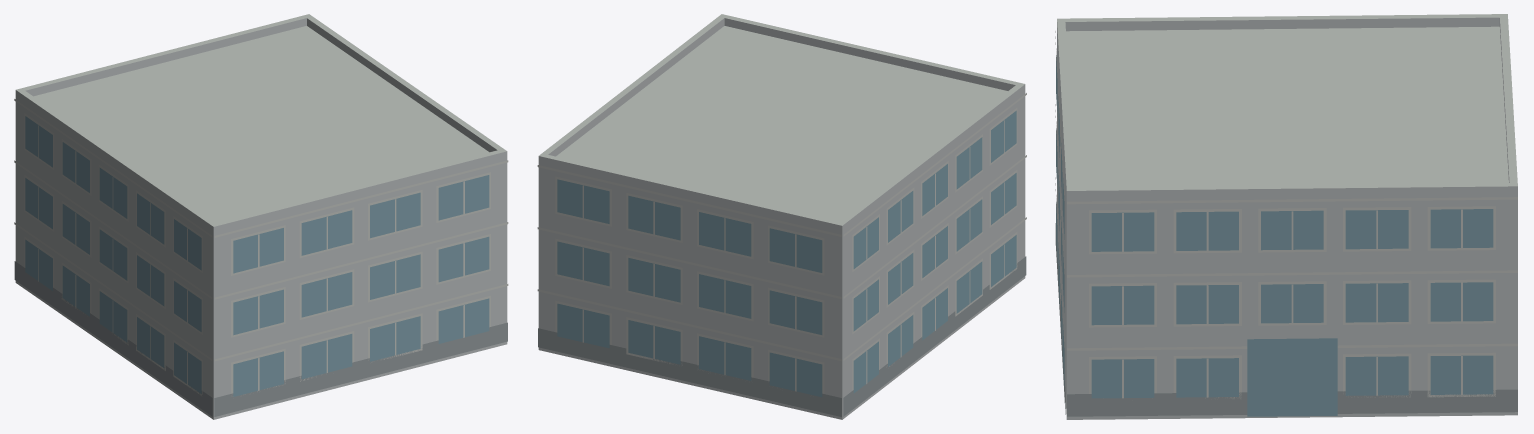
The model's file is public-e58639c7-b9db-4024-9742-66ee8e0c9c83.glb.
The picture shows the model from 3 angles, left to right: view 1: azimuth 30°, elevation 25°; view 2: azimuth 150°, elevation 25°; view 3: azimuth 270°, elevation 25°; orthographic projection. The views are drawn at different scales.
Visible parts, largest first — view 1: public-e58639c7-b9db-4024-9742-66ee8e0c9c83; view 2: public-e58639c7-b9db-4024-9742-66ee8e0c9c83; view 3: public-e58639c7-b9db-4024-9742-66ee8e0c9c83.
Boxes of the visible parts, x1,y1,x2,y2 form: public-e58639c7-b9db-4024-9742-66ee8e0c9c83: [14, 14, 508, 419]; public-e58639c7-b9db-4024-9742-66ee8e0c9c83: [537, 14, 1026, 419]; public-e58639c7-b9db-4024-9742-66ee8e0c9c83: [1055, 14, 1517, 419].
Size of the model in its own units: 16.29 by 9.15 by 16.84.
